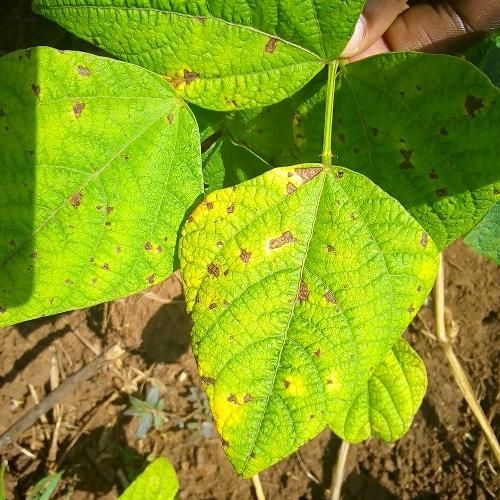hawar: (198, 206, 354, 399), (381, 83, 489, 204), (152, 16, 279, 102), (52, 186, 166, 272)
